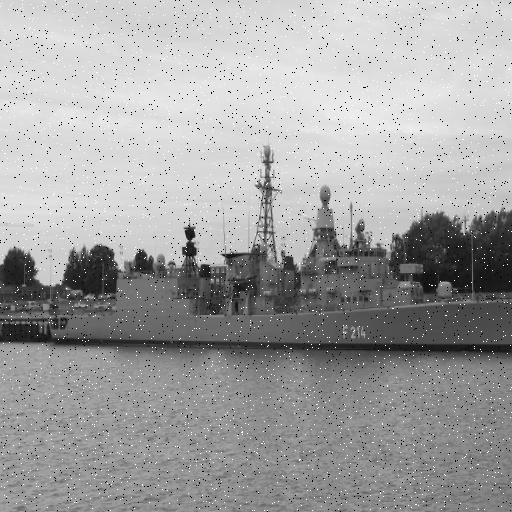Fragata: (42, 134, 512, 355)
